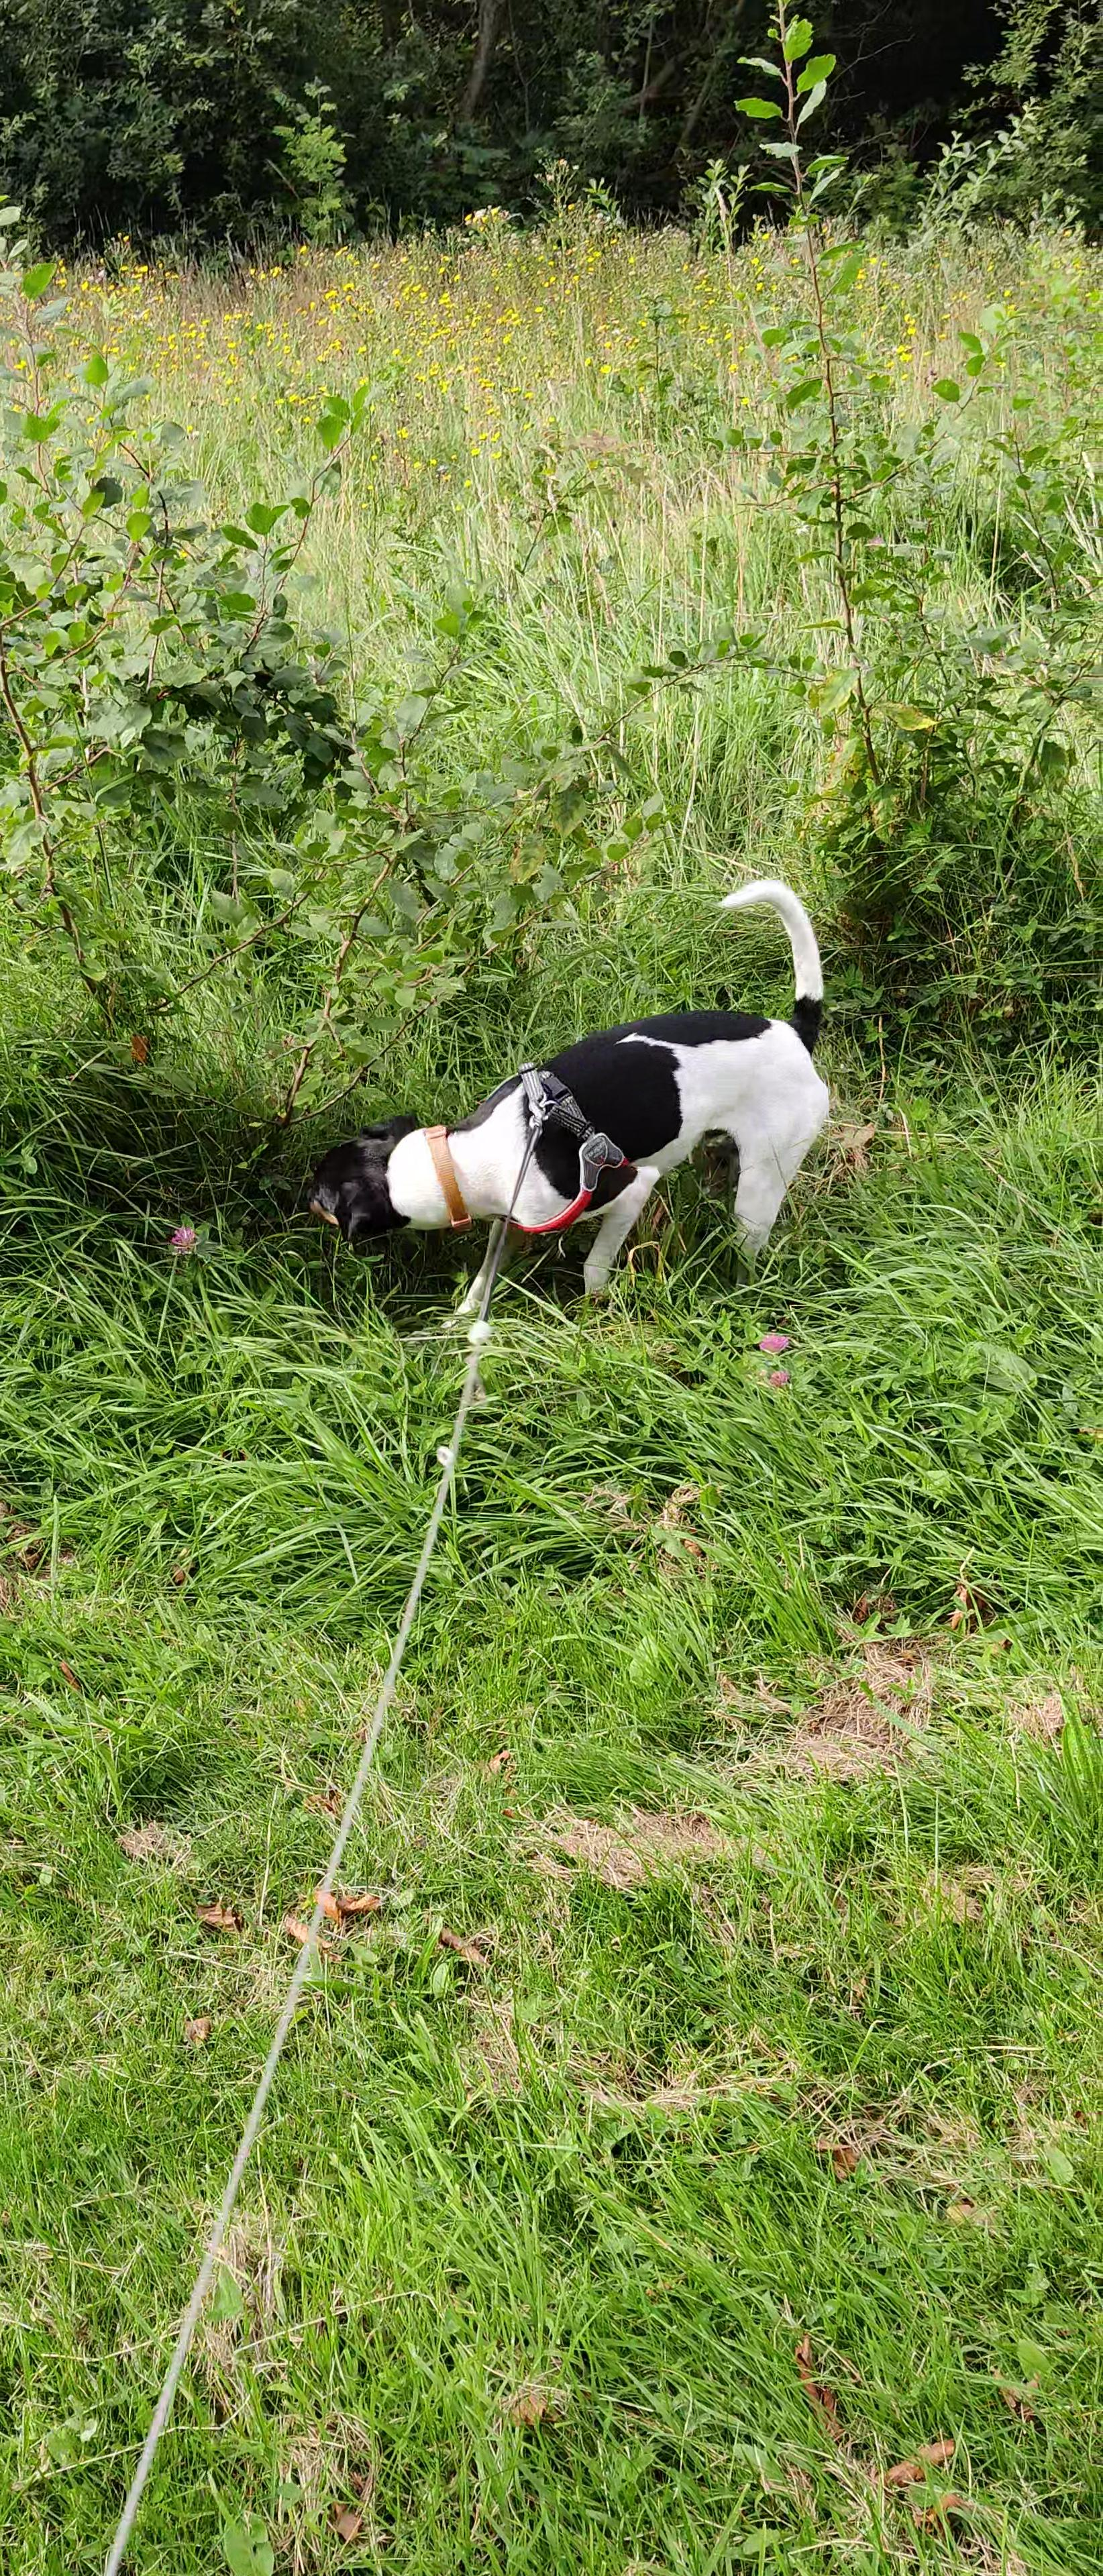Dog: (296, 871, 838, 1332)
